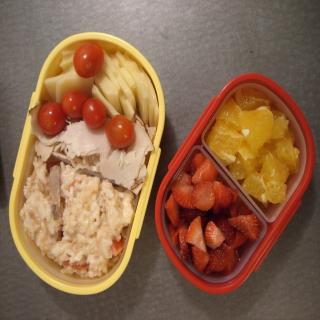tomato: (72, 43, 104, 77), (38, 101, 66, 135), (102, 112, 128, 146), (81, 96, 107, 128), (62, 91, 87, 119)
